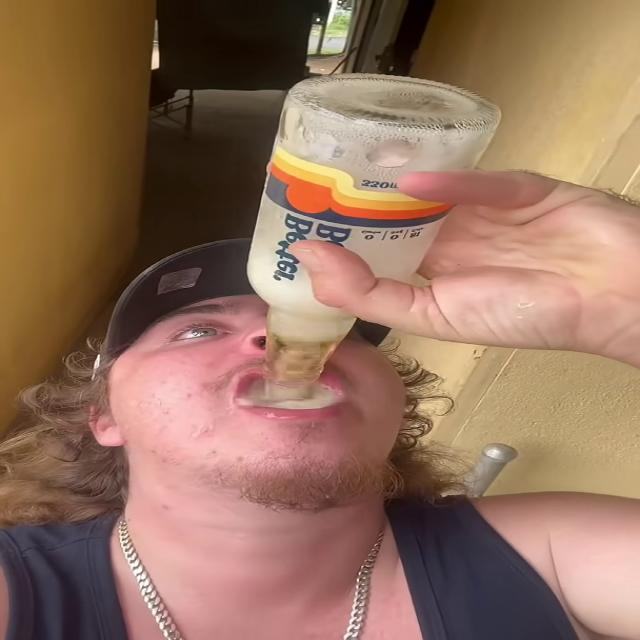Bottle: (265, 74, 502, 384)
Hand: (257, 153, 640, 359)
Mouth: (216, 362, 374, 424)
